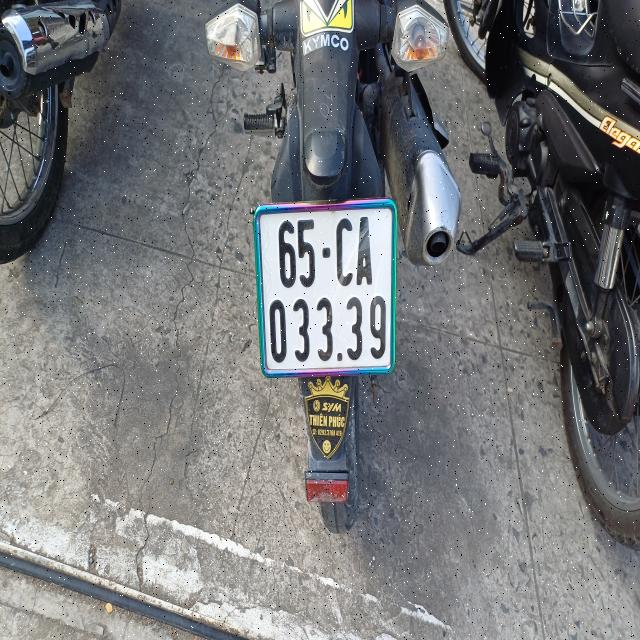0: (269, 296, 288, 366)
3: (292, 296, 310, 365), (316, 296, 334, 362), (346, 296, 363, 362)
5: (298, 218, 318, 291)
6: (277, 219, 297, 289)
9: (368, 295, 388, 362)
A: (356, 214, 375, 289)
C: (335, 216, 355, 288)
